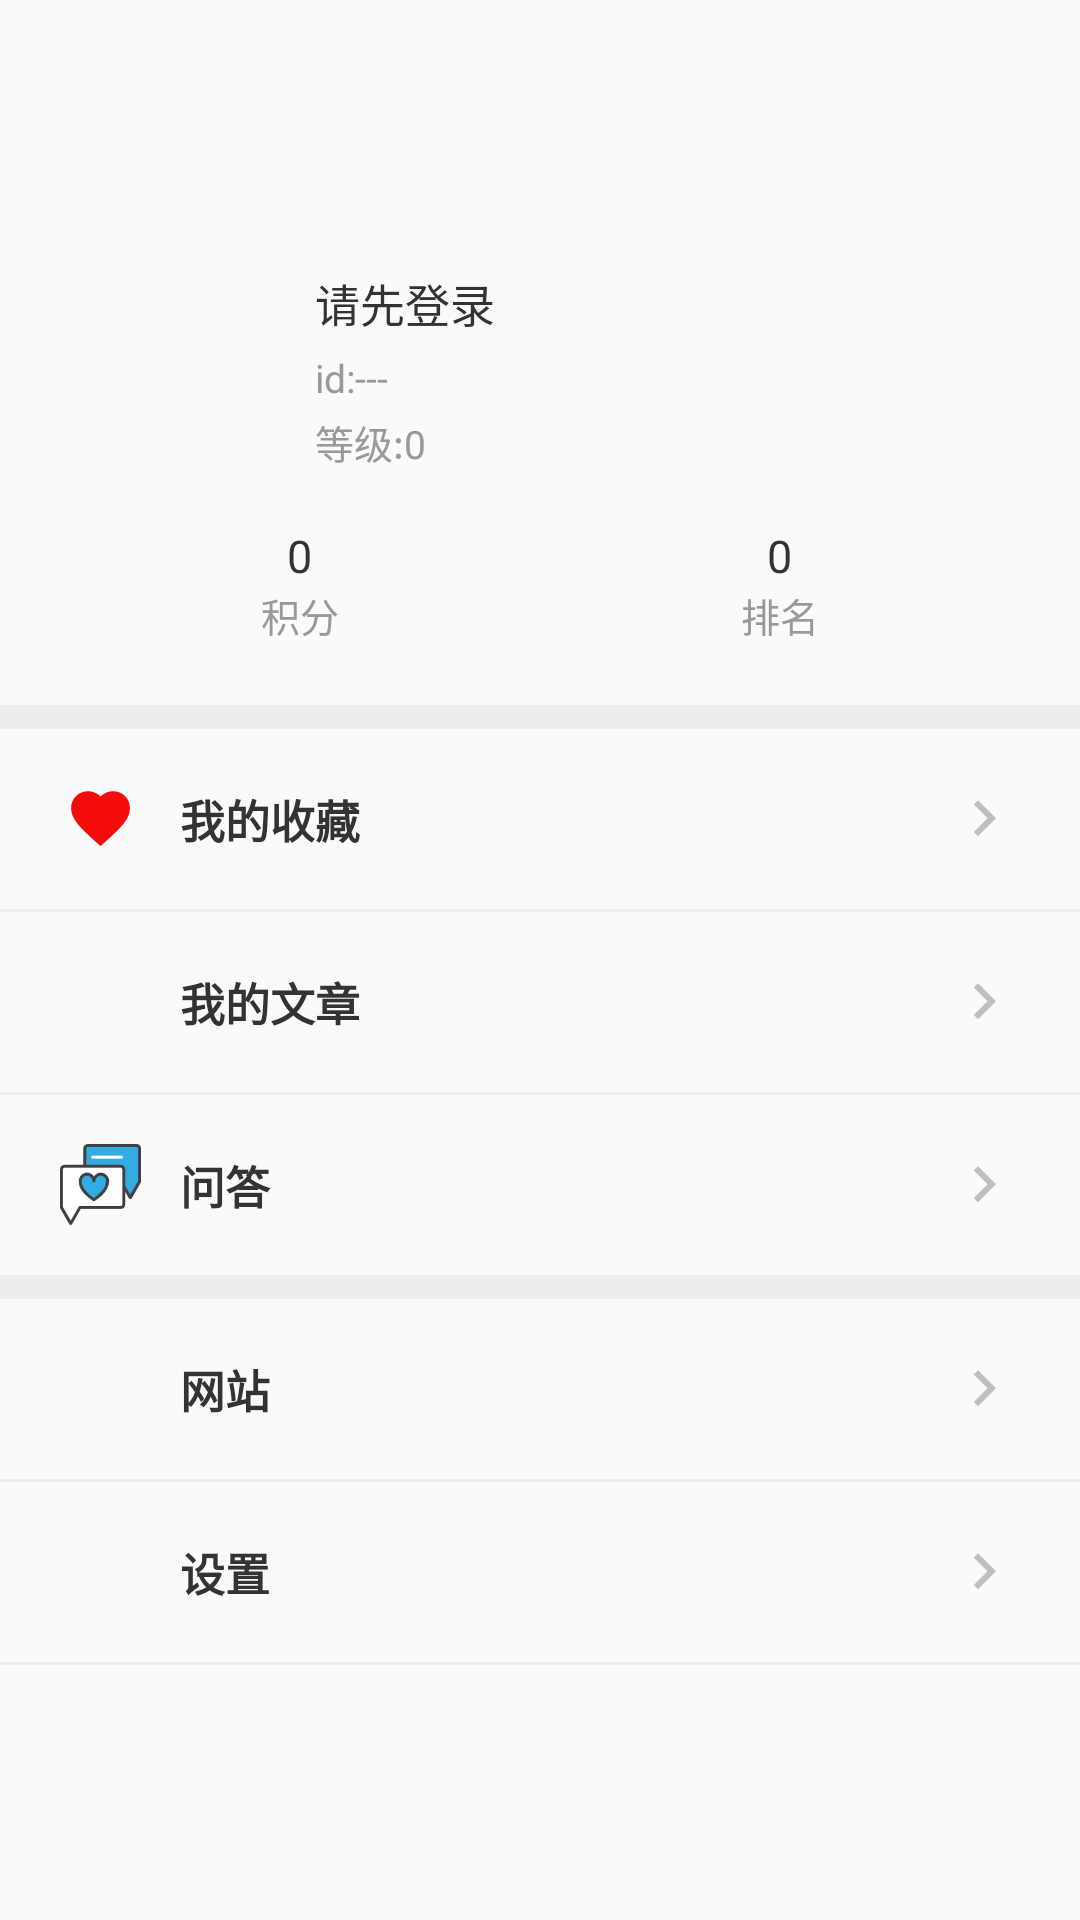

Locate icon controls on the screen. Image size 1080 × 1920, boxes as (x1, y1, x2, y2).
heart: (71, 791, 130, 846)
